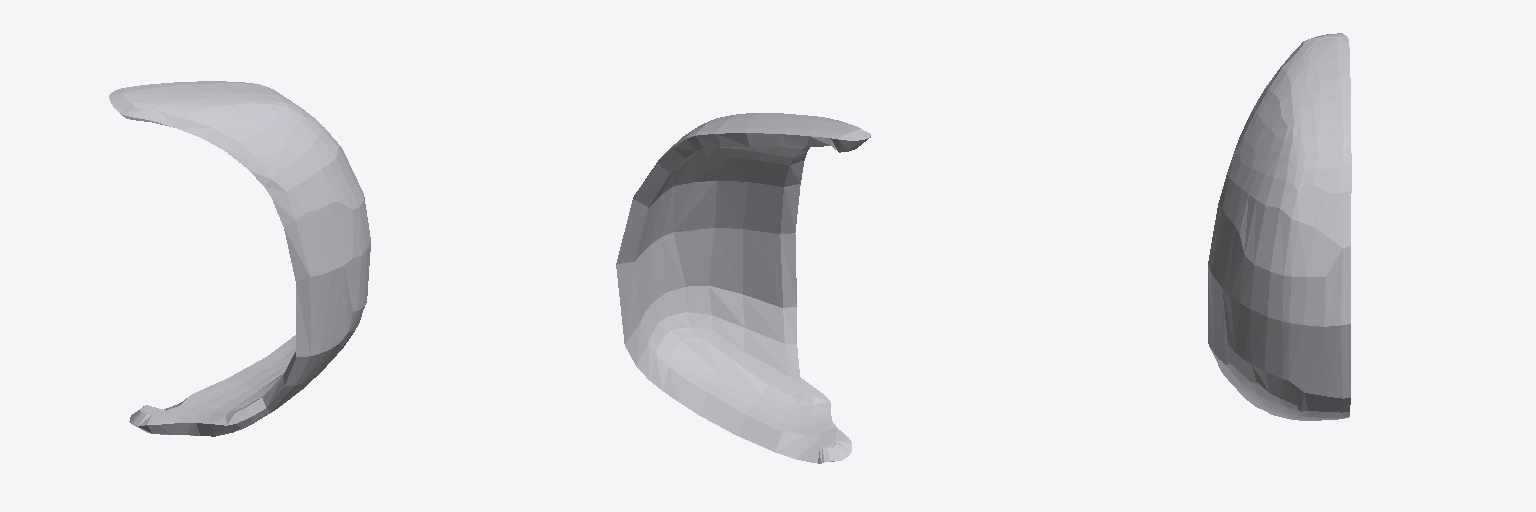
3 renders of one model, left to right at view 1: azimuth 30°, elevation 25°; view 2: azimuth 150°, elevation 25°; view 3: azimuth 270°, elevation 25°, orthographic.
Parts seen in each view (by area): view 1: L_TOE_P-464-FACES; view 2: L_TOE_P-464-FACES; view 3: L_TOE_P-464-FACES.
Part boxes in pixels (x1,y1,x2,y2): L_TOE_P-464-FACES: (109,81,370,436); L_TOE_P-464-FACES: (616,113,870,463); L_TOE_P-464-FACES: (1208,33,1351,420).
Size of the model in its own units: 0.0871 by 0.1163 by 0.0451.
Materials: 1 (1 with a texture image).